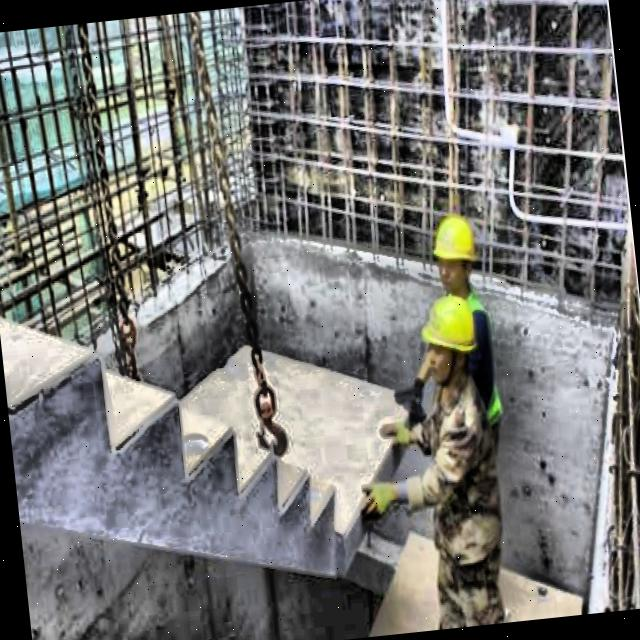helmet: (410, 284, 484, 398), (422, 204, 484, 300)
